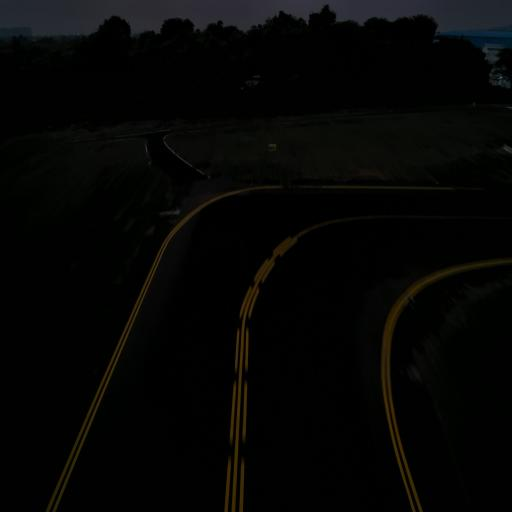on: (175, 205, 180, 213)
